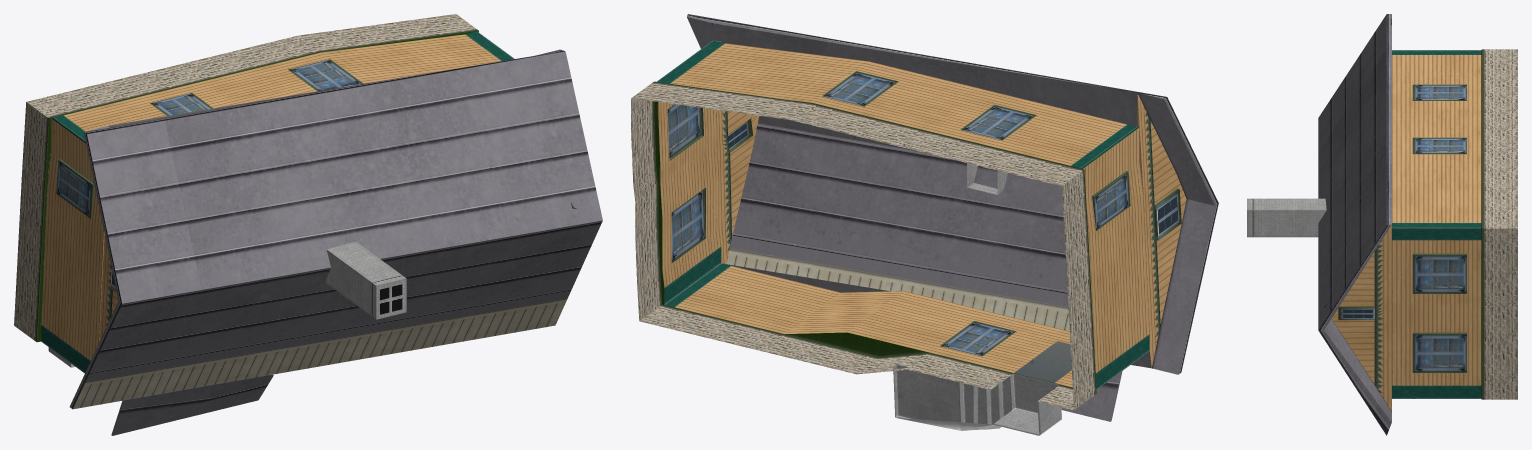
The model's file is 103_Toompuiestee_16_korvalhoone1-origo.obj.
3 renders of one model, left to right at view 1: azimuth 30°, elevation 25°; view 2: azimuth 150°, elevation 25°; view 3: azimuth 270°, elevation 25°, orthographic. The views are drawn at different scales.
Visible parts, largest first — view 1: house01; view 2: house01; view 3: house01.
Boxes of the visible parts, <box> form: house01: <box>14,14,602,435</box>; house01: <box>631,14,1218,435</box>; house01: <box>1247,14,1517,435</box>.
Size of the model in its own units: 15.19 by 9.5 by 9.15.
